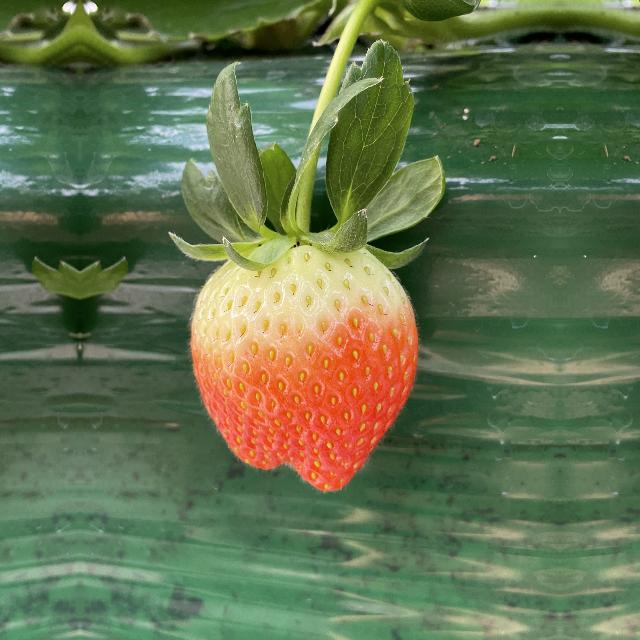Health_75: (182, 235, 432, 490)
